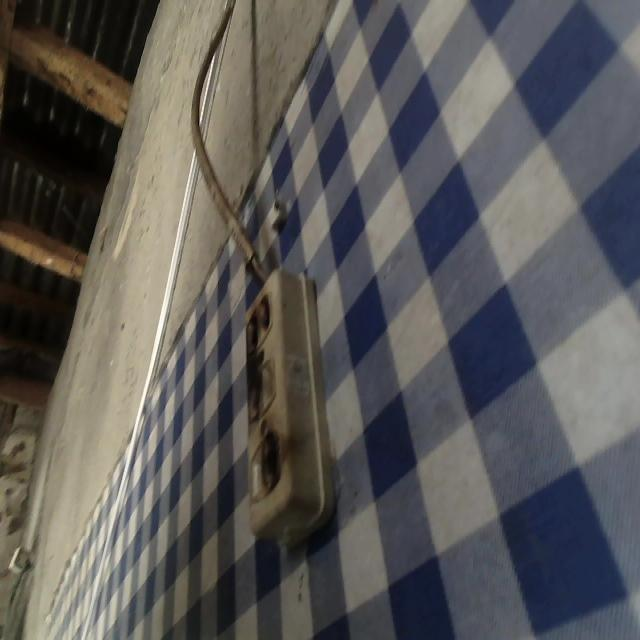-: (242, 290, 271, 350), (261, 431, 283, 492), (242, 360, 264, 417)
